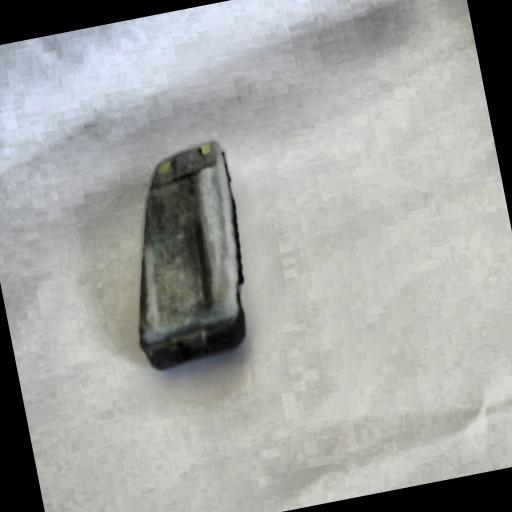normal_car: (100, 138, 268, 377)
